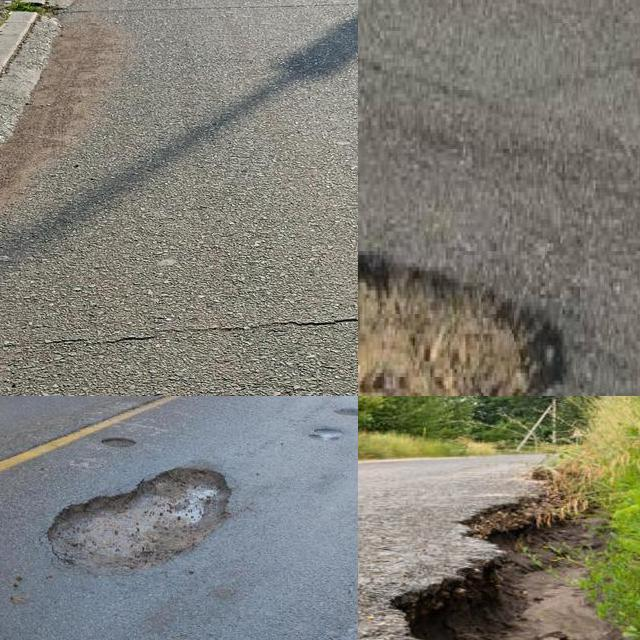Lubang: (358, 254, 560, 396), (42, 464, 230, 582)
Melintang: (0, 297, 358, 373)
Pinggir: (386, 469, 582, 640)
